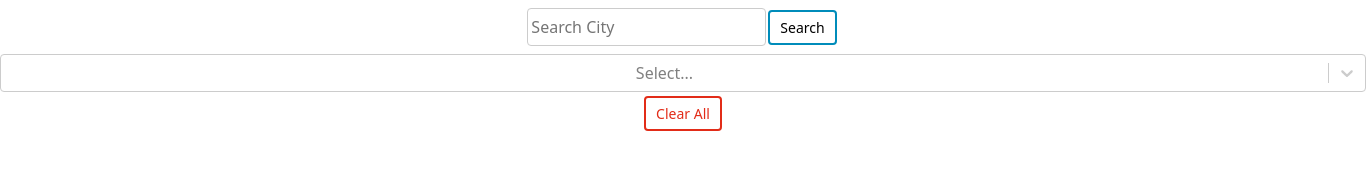
Search for a city and the searched city appears in the suggestions
The image size is (1366, 193).
# types in the input the city "Lisbon"
Type "Lisbon" into the field.
click(647, 27); type("Lisbon")  # box [527,8,766,46]
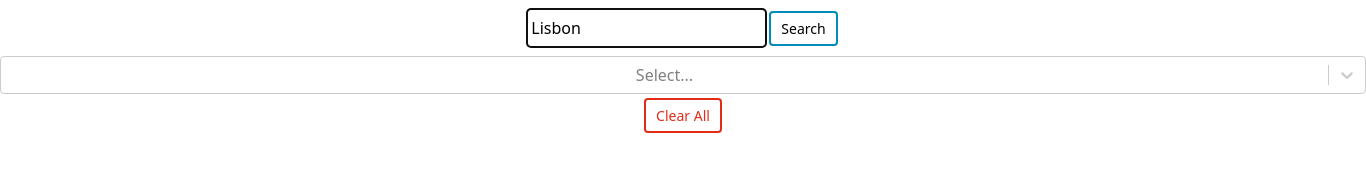
# clicks on the search button
Click the button "Search".
click(803, 28)  # box [769,11,838,46]
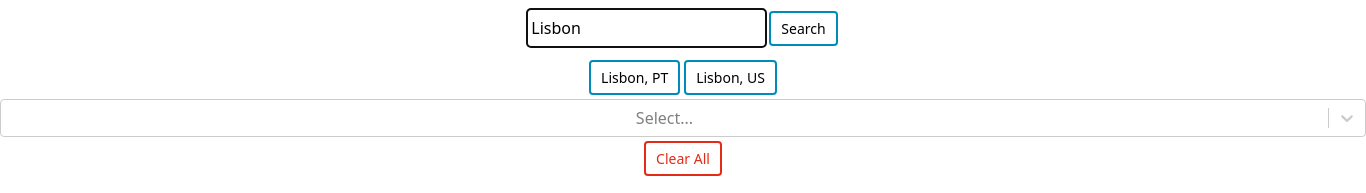
Check: the button "Lisbon, PT" is shown, box [589,60,680,95]
